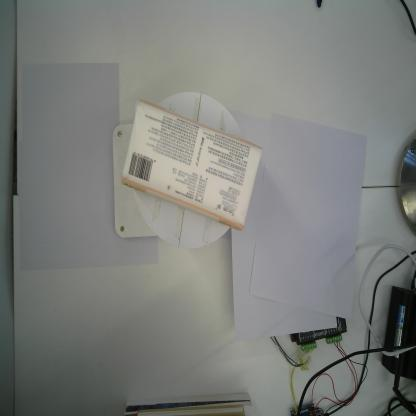Tissue: (121, 98, 262, 231)
